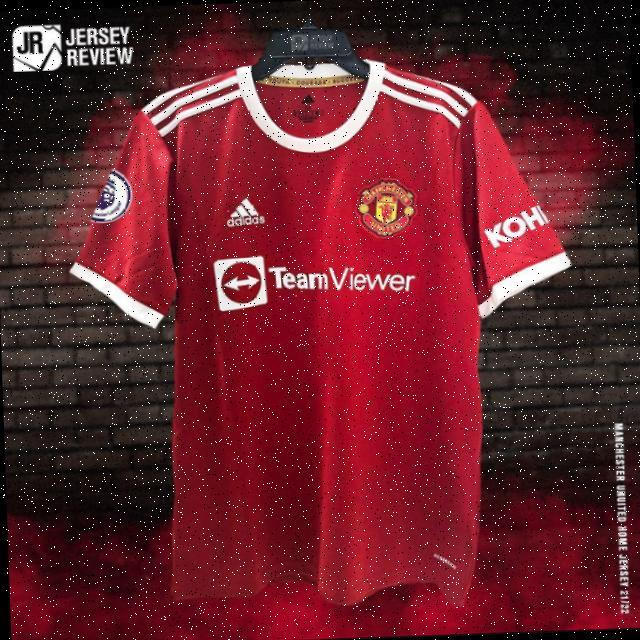Adidas: (223, 196, 266, 230)
TeamViewer: (217, 252, 417, 313)
